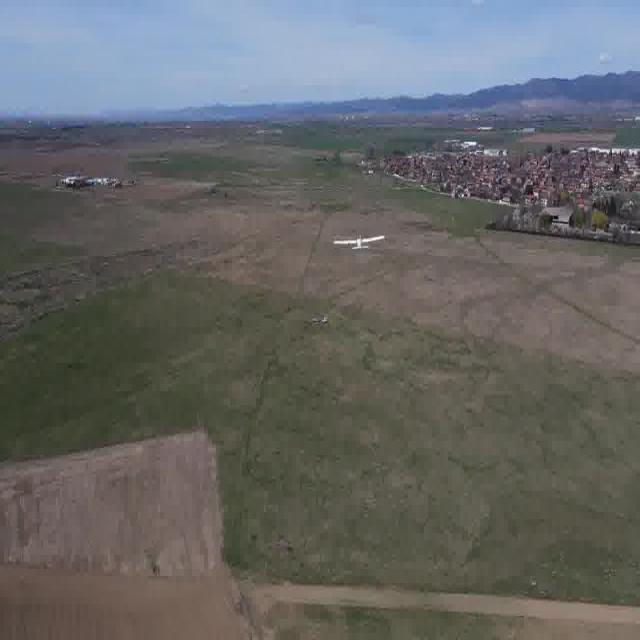iha: (334, 226, 392, 260)
